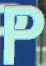Parking: (0, 2, 45, 63)
